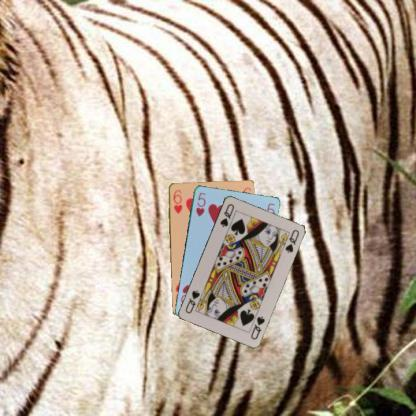5h: (193, 189, 207, 218)
6h: (171, 188, 183, 214)
Qs: (217, 201, 235, 228), (248, 313, 266, 340)
